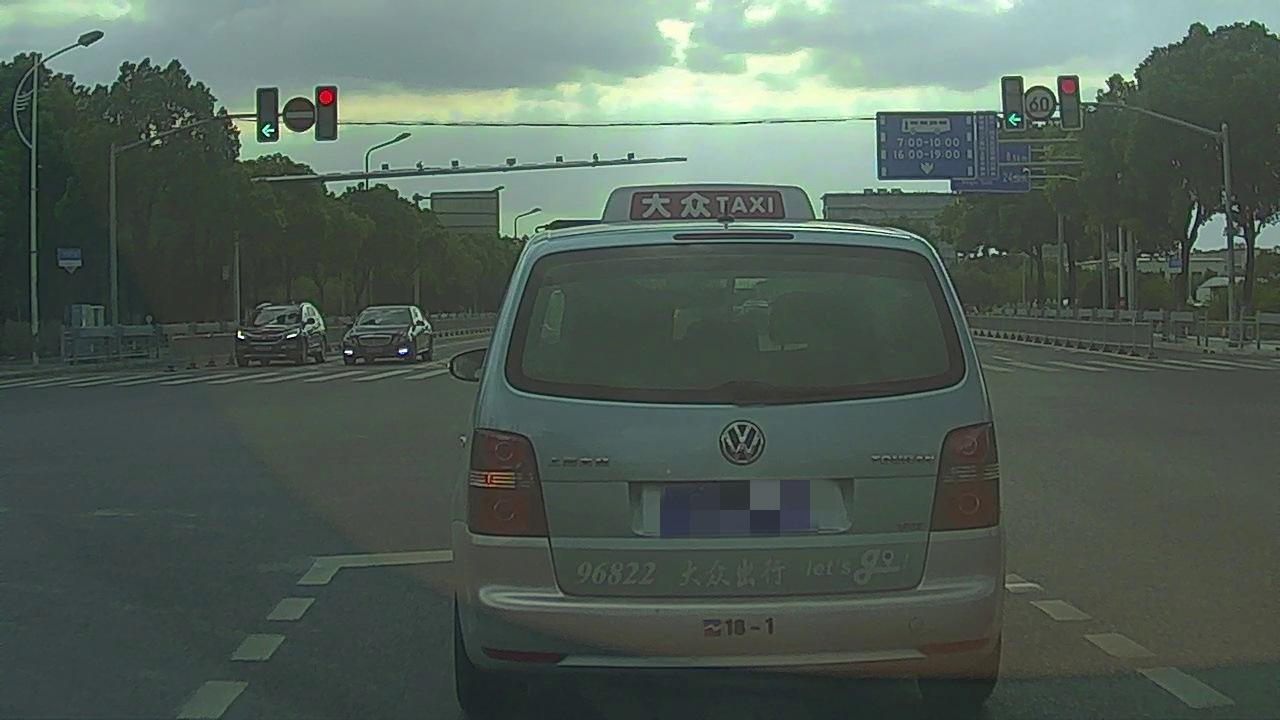traffic_light: (256, 89, 278, 143), (1001, 76, 1023, 130), (315, 86, 336, 141), (1057, 76, 1079, 128)
